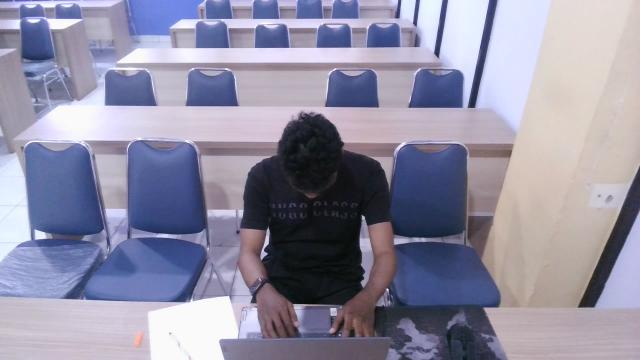Head_Down_Extreme: (240, 105, 390, 311)
